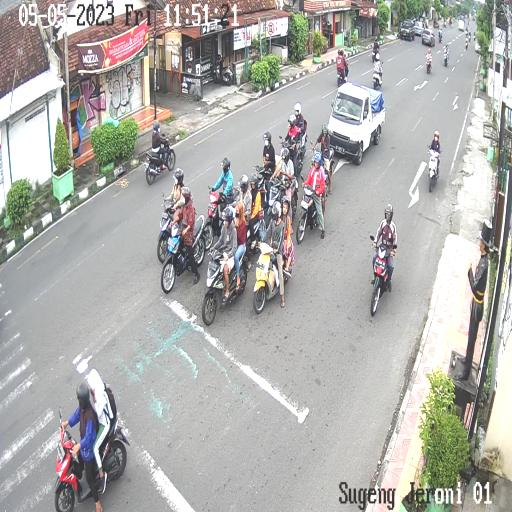mobil: (324, 79, 386, 166)
motor: (32, 400, 138, 512), (205, 242, 252, 334), (161, 214, 205, 300), (252, 236, 294, 316), (225, 172, 262, 256), (157, 190, 194, 267), (201, 185, 240, 249), (370, 234, 398, 322), (143, 130, 176, 199), (298, 174, 328, 245), (278, 116, 310, 182), (268, 169, 298, 231), (311, 141, 338, 195), (252, 145, 280, 194), (426, 144, 442, 196)
